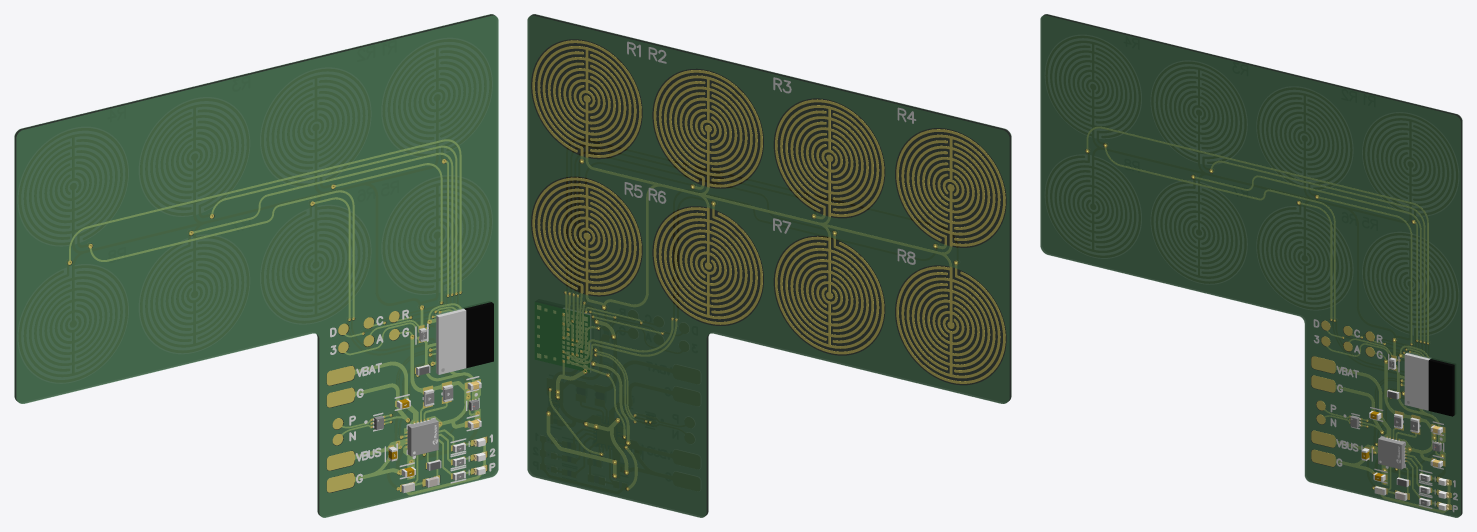
Rendered from distributed-sensing.glb.
3 views of the same model, side by side, from view 1: azimuth 30°, elevation 25°; view 2: azimuth 150°, elevation 25°; view 3: azimuth 330°, elevation 25° (orthographic). The views are drawn at different scales.
Parts seen in each view (by area): view 1: Node153, Node154, Node3, Node88, Node1, Node103, Node74, Node58; view 2: Node154, Node153, Node3, Node100, Node1; view 3: Node153, Node154, Node3, Node103, Node88, Node1, Node74.
Boxes of the visible parts, x1,y1,x2,y2 form: Node153: [14, 14, 498, 517]; Node154: [14, 14, 497, 517]; Node3: [67, 139, 487, 494]; Node88: [401, 308, 466, 493]; Node1: [330, 309, 495, 483]; Node103: [464, 301, 493, 368]; Node74: [407, 418, 438, 456]; Node58: [374, 388, 478, 479]; Node154: [528, 14, 1011, 517]; Node153: [527, 14, 1011, 517]; Node3: [532, 40, 1005, 490]; Node100: [535, 302, 589, 372]; Node1: [624, 41, 916, 264]; Node153: [1040, 14, 1462, 517]; Node154: [1041, 14, 1462, 517]; Node3: [1085, 126, 1451, 512]; Node103: [1428, 358, 1455, 416]; Node88: [1374, 352, 1430, 500]; Node1: [1313, 319, 1457, 512]; Node74: [1378, 436, 1404, 469].
Size of the model in its own units: 7.01 by 6.41 by 0.154.
